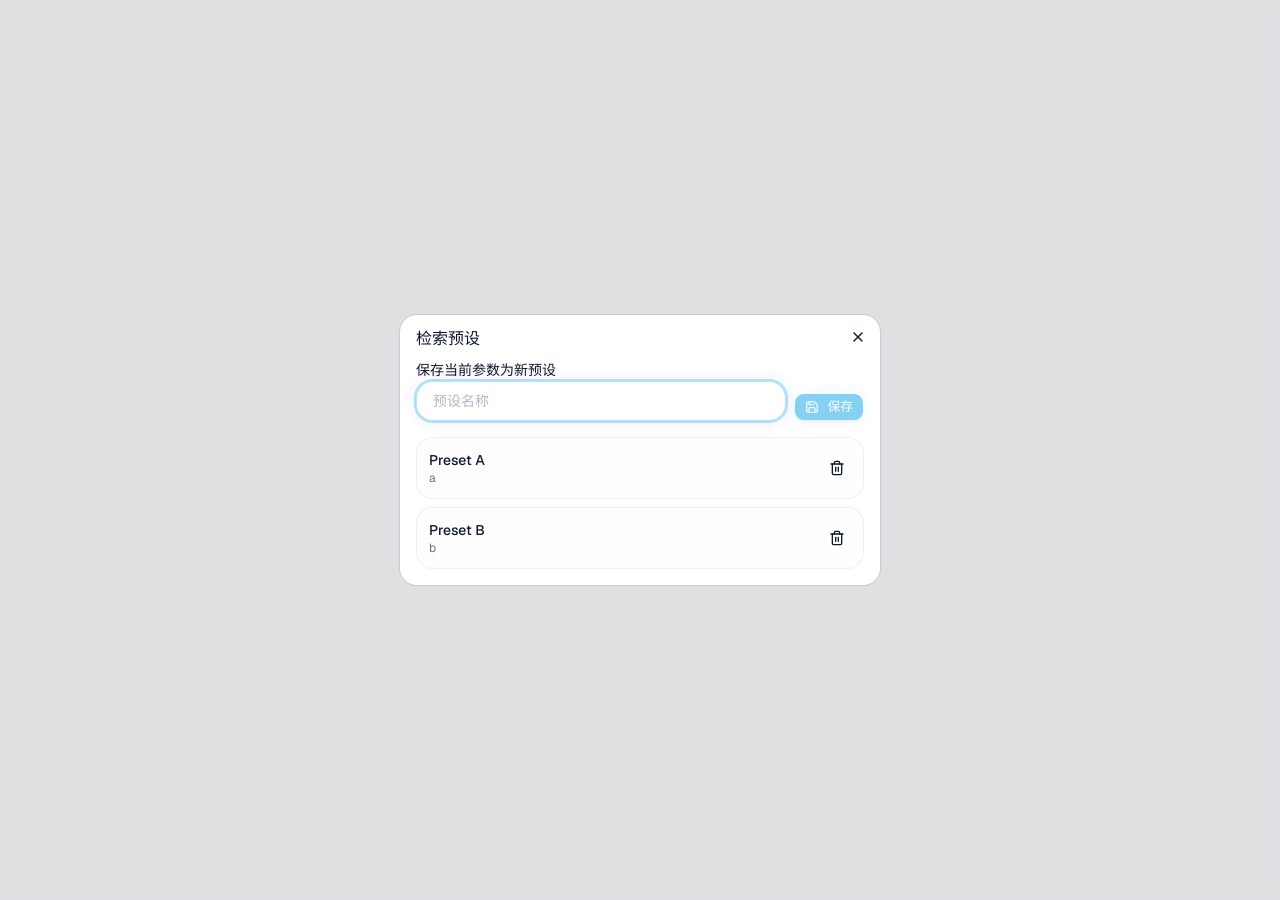
Test: RetrievalPresetsDialog › deletes a preset
The width and height of the screenshot is (1280, 900).
What coordinates should you click on to do the following:
click the button named "删除预设" in the row of "Preset A"
I would click on:
 (837, 468)
Its box is [823, 454, 851, 482].
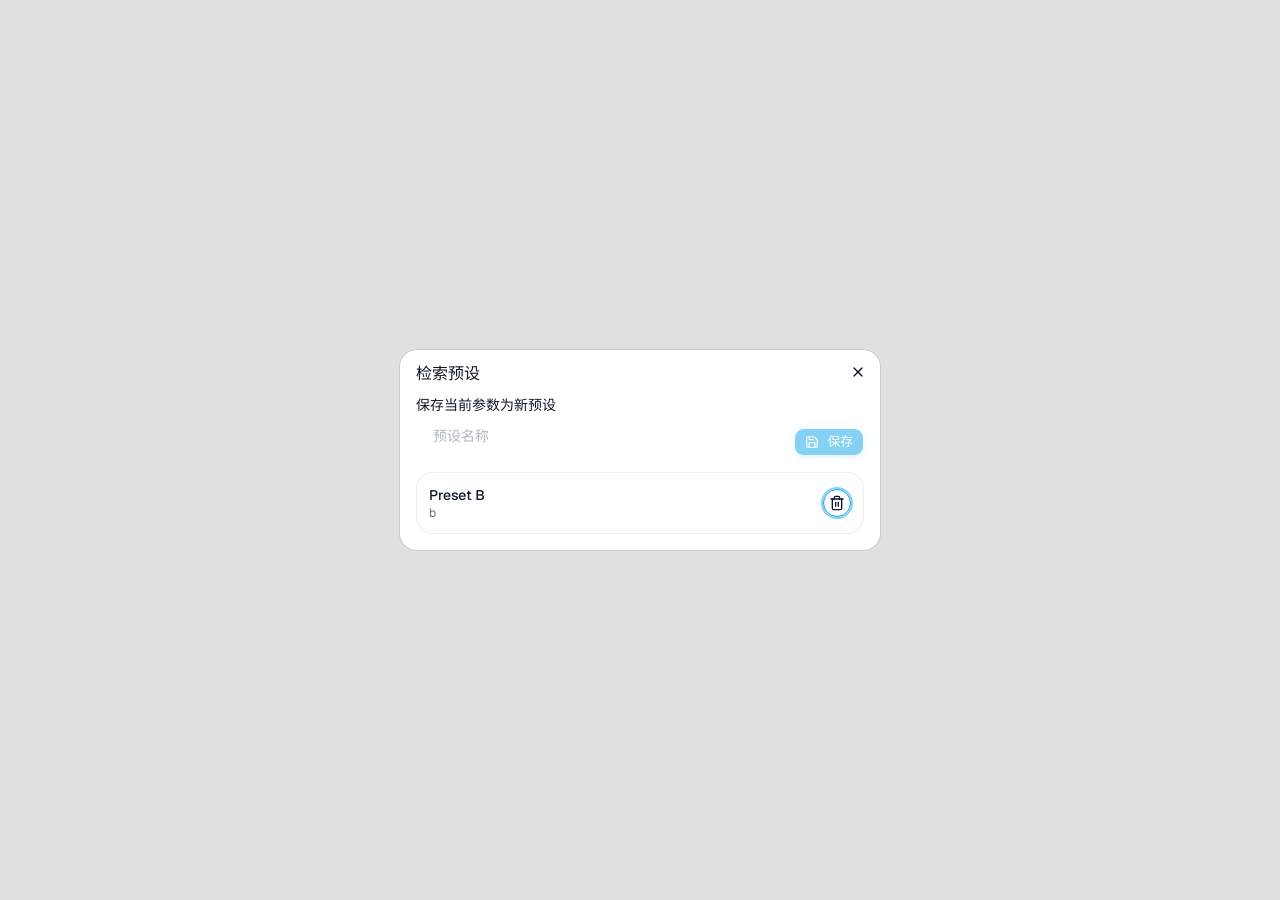
Expected: the text "Preset B" is shown, [429, 486, 485, 504]
